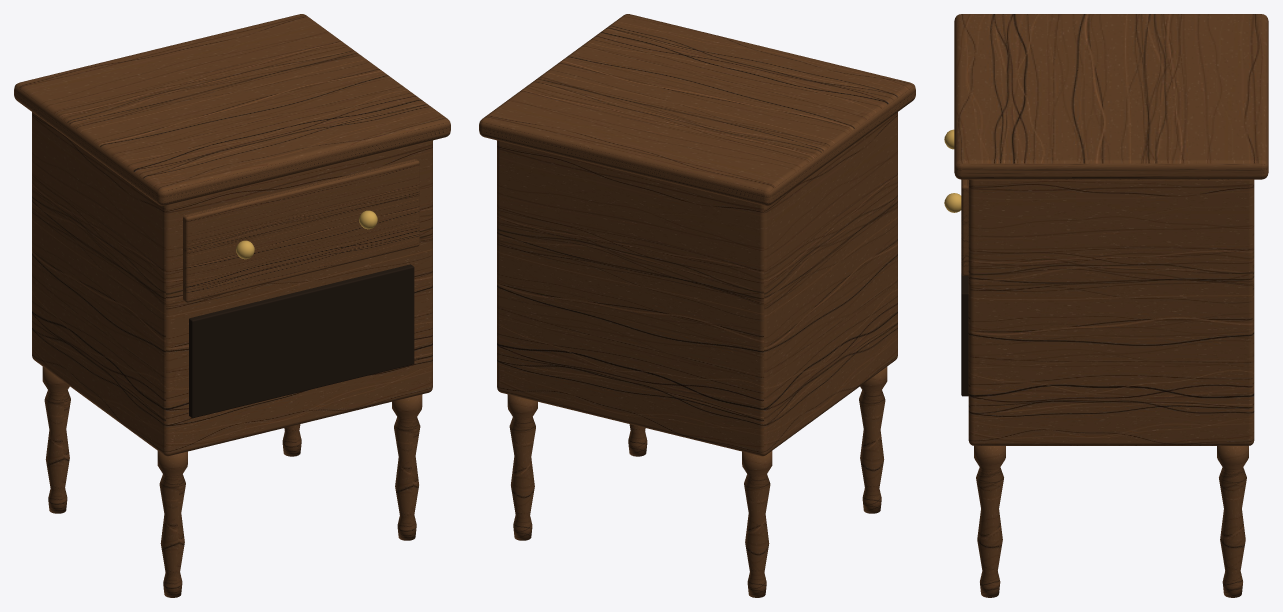
Rendered from criado-mudo-torneado.glb.
The picture shows the model from 3 angles, left to right: view 1: azimuth 30°, elevation 25°; view 2: azimuth 150°, elevation 25°; view 3: azimuth 270°, elevation 25°; orthographic projection. The views are drawn at different scales.
Parts seen in each view (by area): view 1: nightstand; view 2: nightstand; view 3: nightstand.
Boxes of the visible parts, x1,y1,x2,y2 form: nightstand: (14,14,450,597); nightstand: (479,14,915,597); nightstand: (944,14,1268,597).
Size of the model in its own units: 0.5 by 0.69 by 0.454.
Materials: 3 (1 with a texture image).
